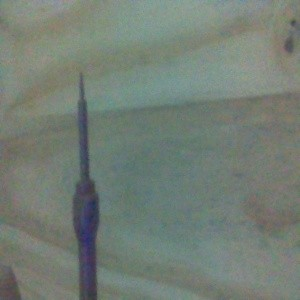solder: (72, 72, 99, 300)
